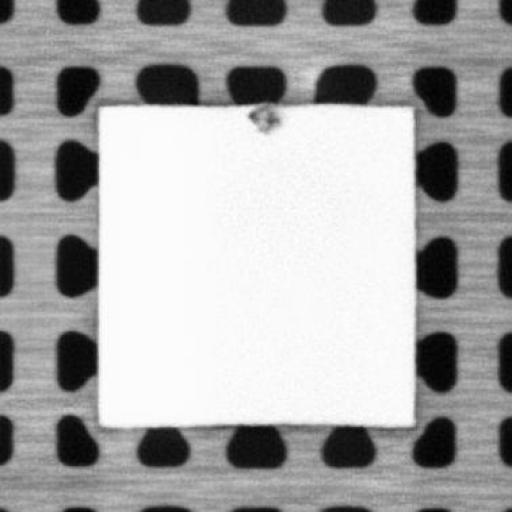DIE_INK: (245, 102, 283, 134)
